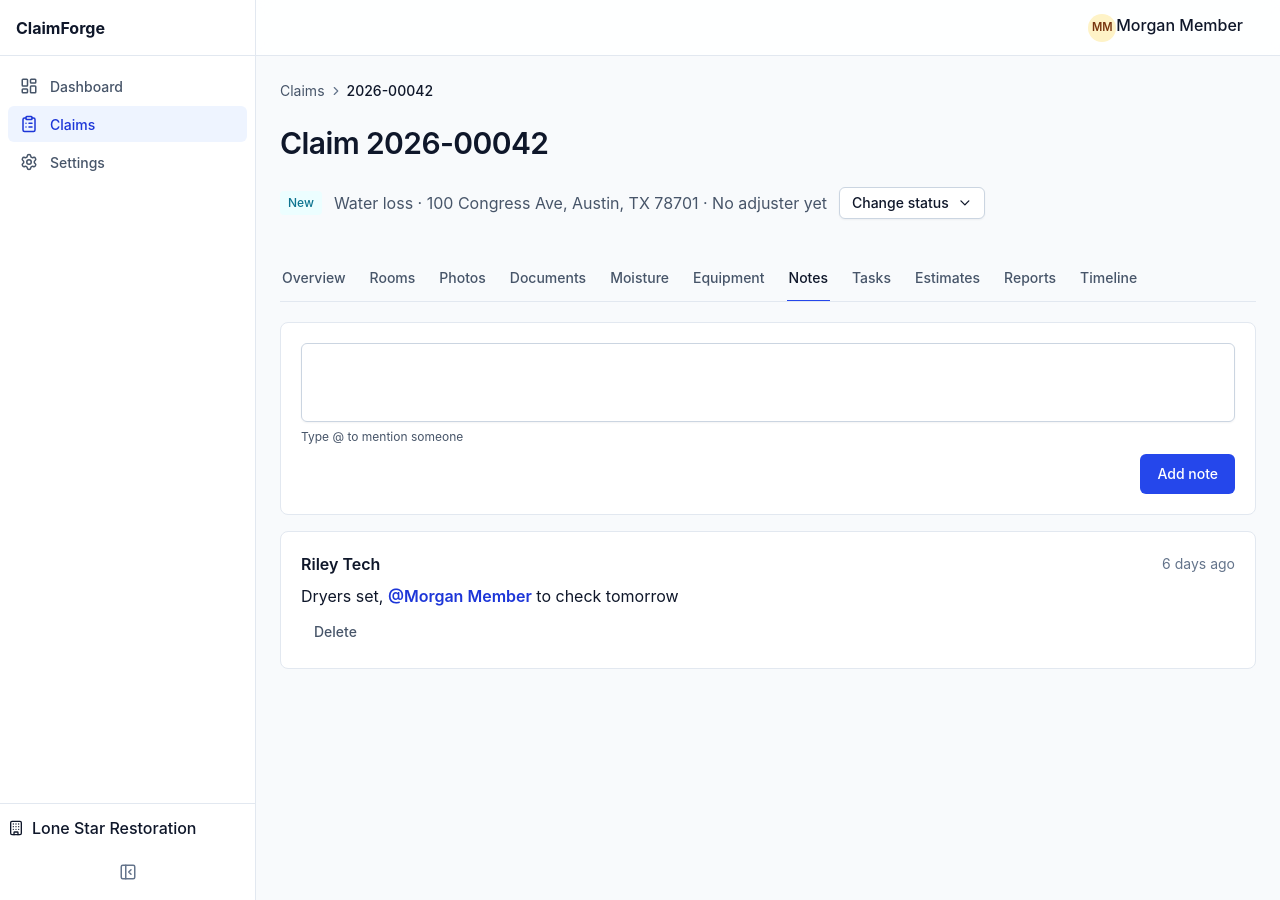
Scenario: changing a note › someone else's note can't be edited, but an admin can delete it, asking first
Click the button "Delete": (335, 632) x1=301 y1=616 x2=370 y2=648
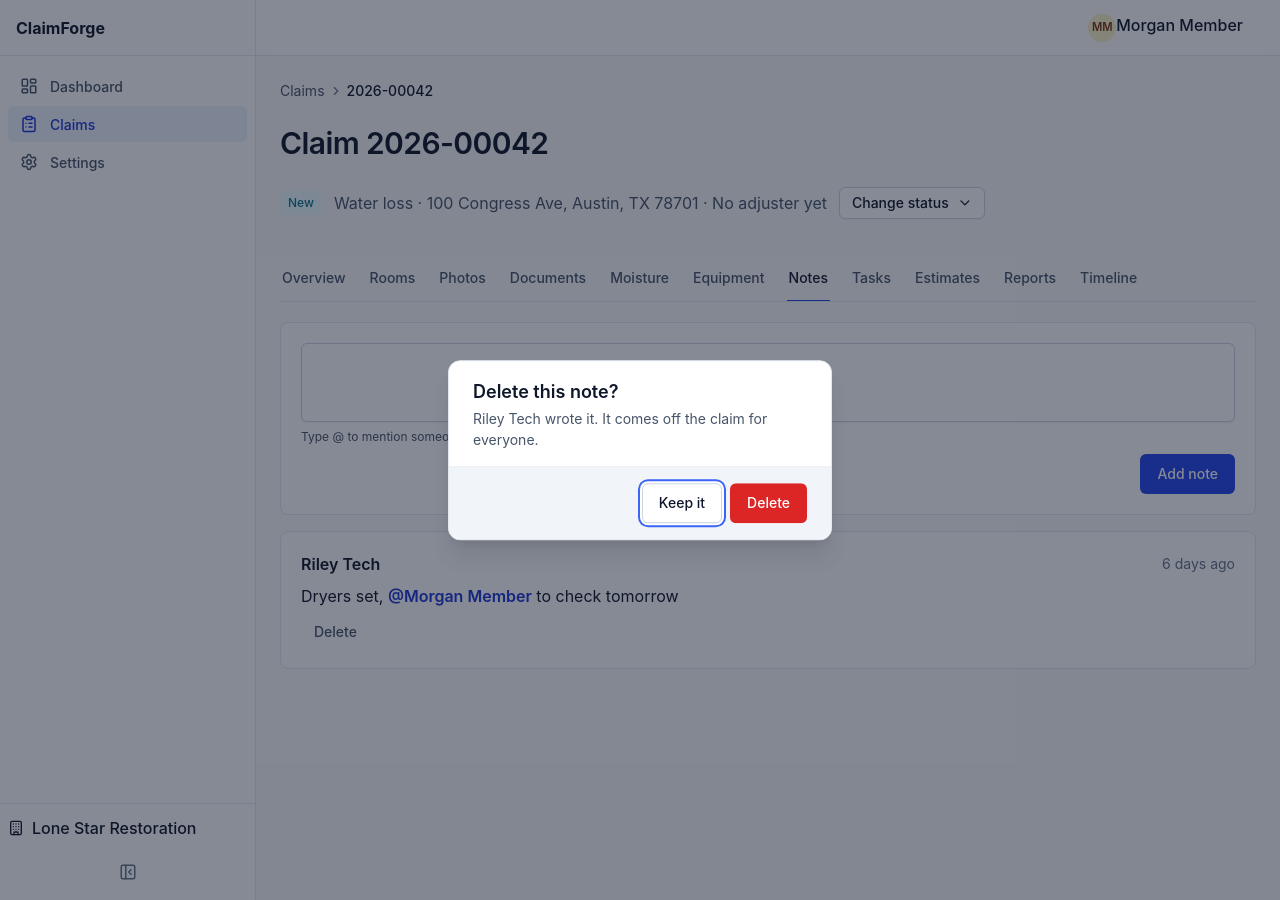
Expected: the text "Riley Tech wrote it. It comes off the claim for everyone." is shown, x1=473 y1=408 x2=807 y2=450
Click the button "Delete": (769, 503) x1=730 y1=483 x2=807 y2=523
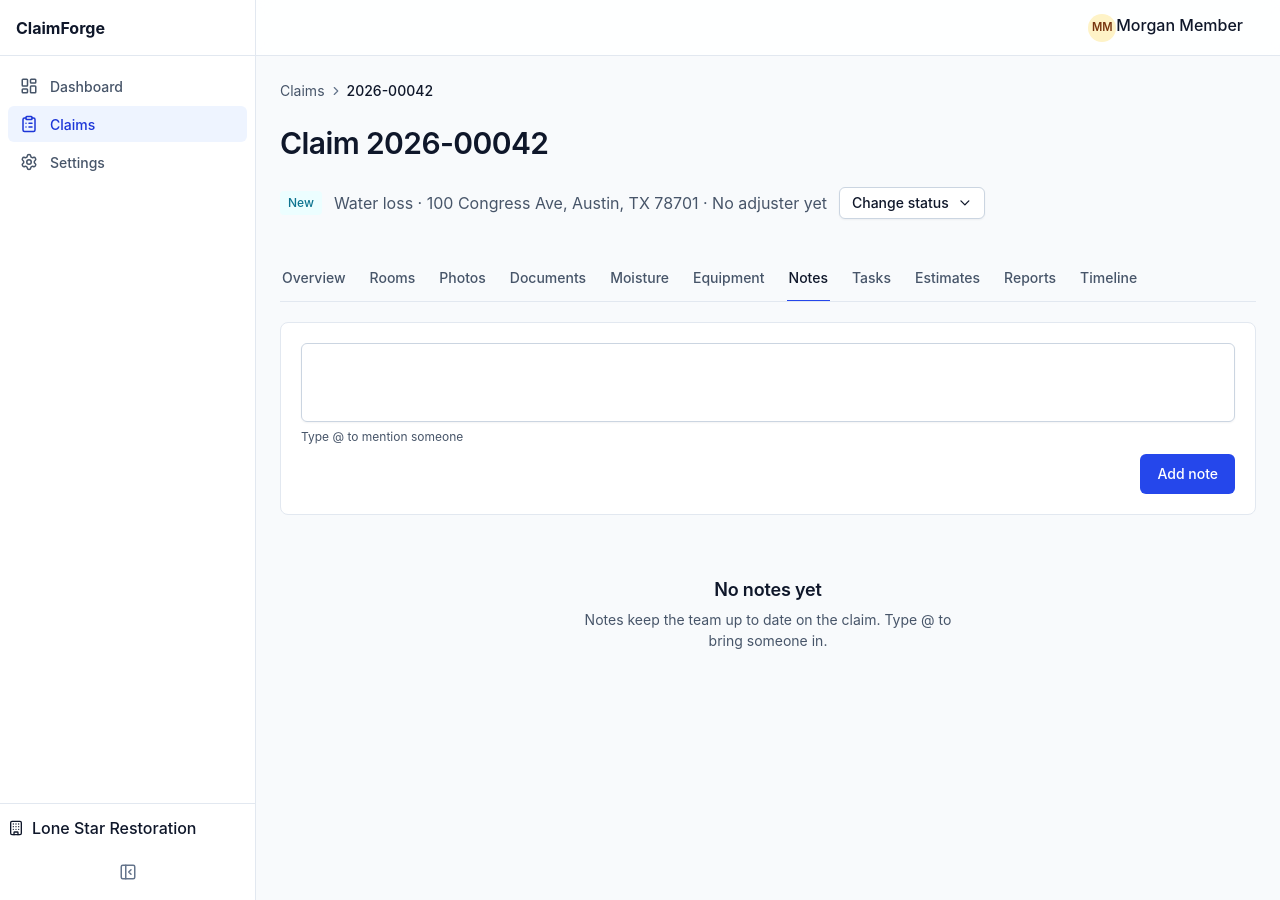
Expected: the heading "No notes yet" is shown, x1=714 y1=578 x2=822 y2=601
